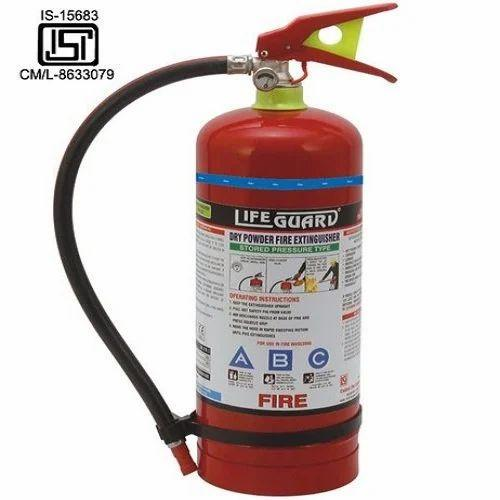Fire Extinguisher: (126, 0, 413, 500)
